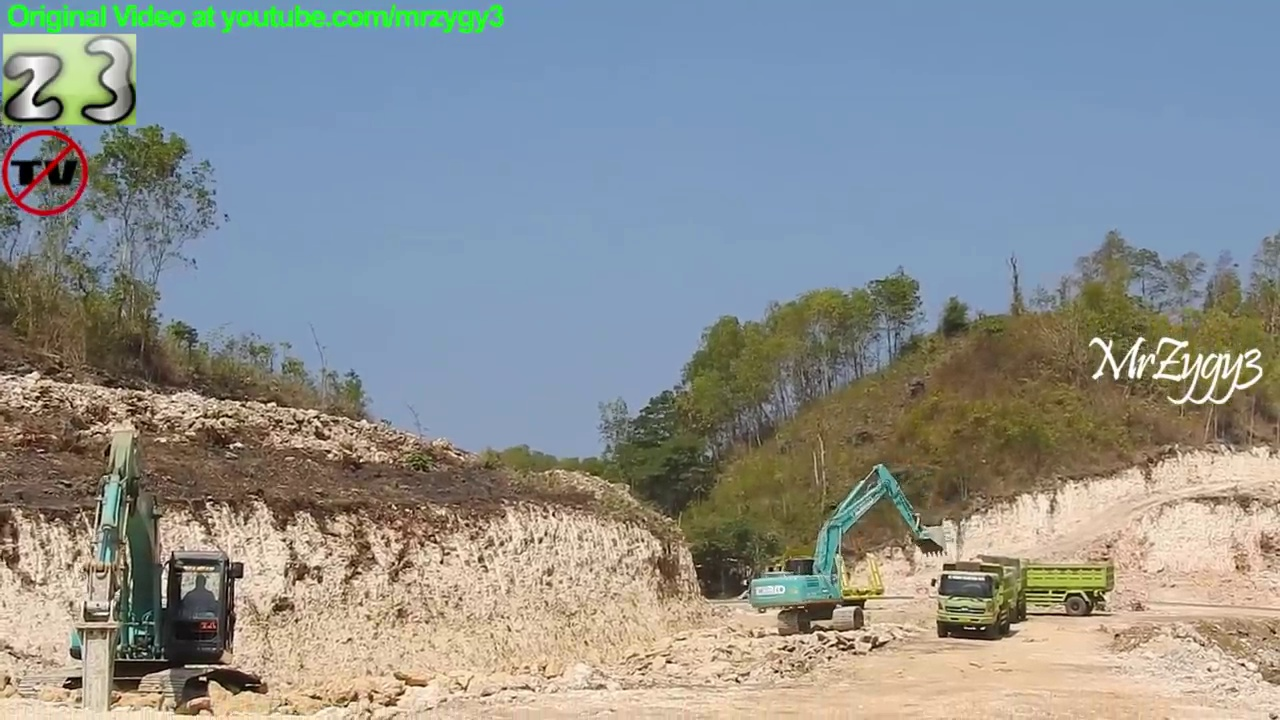excavator: (750, 462, 951, 634)
excavator breaker: (15, 421, 278, 719)
truck: (961, 551, 1119, 624), (930, 561, 1022, 641), (955, 550, 1030, 627)
